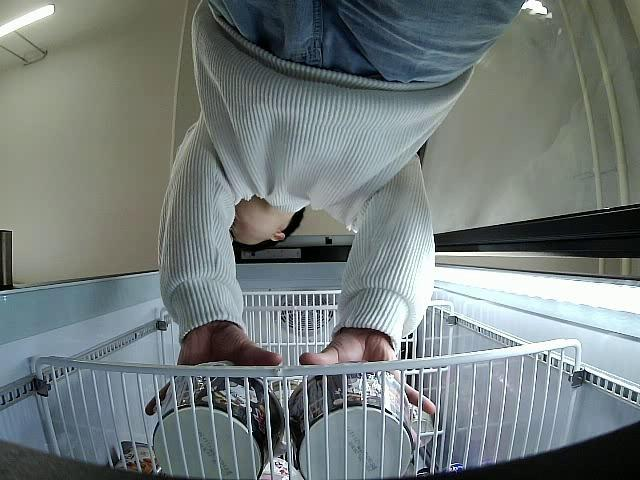07_buldak_L: (150, 366, 286, 480), (290, 365, 420, 480)
